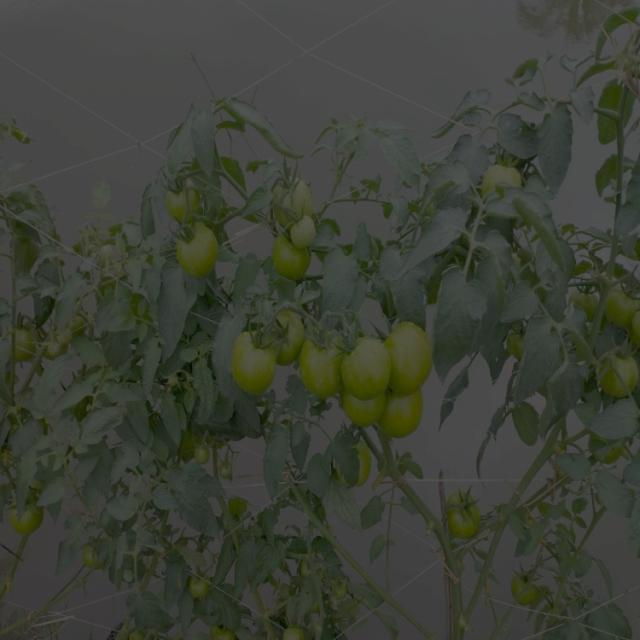tomato: (228, 331, 291, 398), (168, 220, 231, 283), (385, 323, 433, 394), (301, 328, 347, 402), (441, 494, 494, 546), (344, 335, 393, 391), (378, 391, 431, 441), (269, 173, 313, 226), (271, 237, 314, 290), (336, 389, 388, 432), (165, 185, 219, 226), (595, 346, 640, 395), (277, 307, 314, 366), (479, 153, 527, 195), (5, 497, 48, 537), (506, 572, 546, 612), (286, 210, 324, 252), (599, 280, 639, 319), (9, 321, 43, 362), (574, 281, 607, 315), (81, 534, 109, 569), (187, 577, 222, 602), (625, 307, 640, 351), (281, 624, 314, 640), (192, 444, 212, 465)
